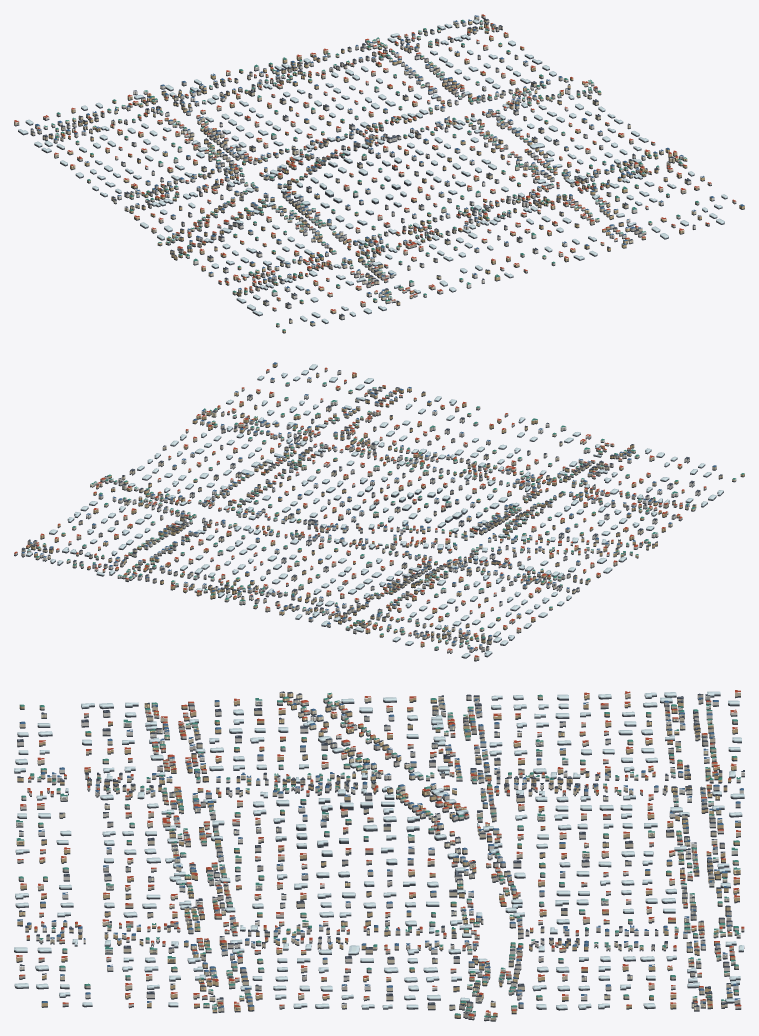
Rendered from osm_buildings_T_E01_N03.glb.
3 views of the same model, one above another, from view 1: azimuth 30°, elevation 25°; view 2: azimuth 150°, elevation 25°; view 3: azimuth 270°, elevation 25° (orthographic). The views are drawn at different scales.
Visible parts, largest first — view 1: OSM_T_E01_N03_foundation, OSM_T_E01_N03_greenhouse_blend, OSM_T_E01_N03_wall_french_ochre, OSM_T_E01_N03_wall_cream_stucco, OSM_T_E01_N03_wall_warm_white, OSM_T_E01_N03_wall_pastel_sand, OSM_T_E01_N03_roof_terracotta, OSM_T_E01_N03_roof_mansard_slate, OSM_T_E01_N03_roof_mint_metal, OSM_T_E01_N03_roof_alpine_blue, OSM_T_E01_N03_balcony_railing; view 2: OSM_T_E01_N03_foundation, OSM_T_E01_N03_greenhouse_blend, OSM_T_E01_N03_wall_french_ochre, OSM_T_E01_N03_wall_cream_stucco, OSM_T_E01_N03_wall_warm_white, OSM_T_E01_N03_wall_pastel_sand, OSM_T_E01_N03_roof_terracotta, OSM_T_E01_N03_roof_mansard_slate, OSM_T_E01_N03_roof_mint_metal, OSM_T_E01_N03_roof_alpine_blue; view 3: OSM_T_E01_N03_foundation, OSM_T_E01_N03_greenhouse_blend, OSM_T_E01_N03_wall_french_ochre, OSM_T_E01_N03_wall_cream_stucco, OSM_T_E01_N03_wall_warm_white, OSM_T_E01_N03_wall_pastel_sand, OSM_T_E01_N03_roof_terracotta, OSM_T_E01_N03_roof_mansard_slate, OSM_T_E01_N03_roof_mint_metal, OSM_T_E01_N03_roof_alpine_blue, OSM_T_E01_N03_roof_mansard_deck, OSM_T_E01_N03_glass_blend_85.
Boxes of the visible parts, box(x1,y1,x2,y2) form: OSM_T_E01_N03_foundation: box(14, 17, 744, 333); OSM_T_E01_N03_greenhouse_blend: box(18, 19, 727, 322); OSM_T_E01_N03_wall_french_ochre: box(48, 20, 744, 332); OSM_T_E01_N03_wall_cream_stucco: box(14, 19, 696, 326); OSM_T_E01_N03_wall_warm_white: box(35, 15, 714, 319); OSM_T_E01_N03_wall_pastel_sand: box(30, 16, 736, 310); OSM_T_E01_N03_roof_terracotta: box(14, 14, 735, 310); OSM_T_E01_N03_roof_mansard_slate: box(31, 18, 701, 320); OSM_T_E01_N03_roof_mint_metal: box(44, 19, 698, 330); OSM_T_E01_N03_roof_alpine_blue: box(35, 15, 744, 322); OSM_T_E01_N03_balcony_railing: box(17, 20, 698, 317); OSM_T_E01_N03_foundation: box(14, 365, 744, 661); OSM_T_E01_N03_greenhouse_blend: box(26, 364, 723, 657); OSM_T_E01_N03_wall_french_ochre: box(26, 363, 744, 646); OSM_T_E01_N03_wall_cream_stucco: box(21, 378, 736, 660); OSM_T_E01_N03_wall_warm_white: box(14, 371, 700, 652); OSM_T_E01_N03_wall_pastel_sand: box(21, 368, 706, 651); OSM_T_E01_N03_roof_terracotta: box(14, 367, 706, 657); OSM_T_E01_N03_roof_mansard_slate: box(22, 370, 722, 648); OSM_T_E01_N03_roof_mint_metal: box(27, 382, 744, 648); OSM_T_E01_N03_roof_alpine_blue: box(21, 362, 716, 649); OSM_T_E01_N03_foundation: box(14, 694, 744, 1021); OSM_T_E01_N03_greenhouse_blend: box(14, 691, 744, 1008); OSM_T_E01_N03_wall_french_ochre: box(16, 693, 740, 1017); OSM_T_E01_N03_wall_cream_stucco: box(19, 692, 740, 1020); OSM_T_E01_N03_wall_warm_white: box(16, 696, 744, 1019); OSM_T_E01_N03_wall_pastel_sand: box(17, 694, 744, 1018); OSM_T_E01_N03_roof_terracotta: box(16, 690, 744, 1016); OSM_T_E01_N03_roof_mansard_slate: box(17, 691, 744, 1013); OSM_T_E01_N03_roof_mint_metal: box(16, 692, 740, 1017); OSM_T_E01_N03_roof_alpine_blue: box(17, 697, 743, 1007); OSM_T_E01_N03_roof_mansard_deck: box(17, 696, 726, 1003); OSM_T_E01_N03_glass_blend_85: box(18, 695, 726, 1016).
Size of the model in its own units: 1971 by 65.26 by 1890.
